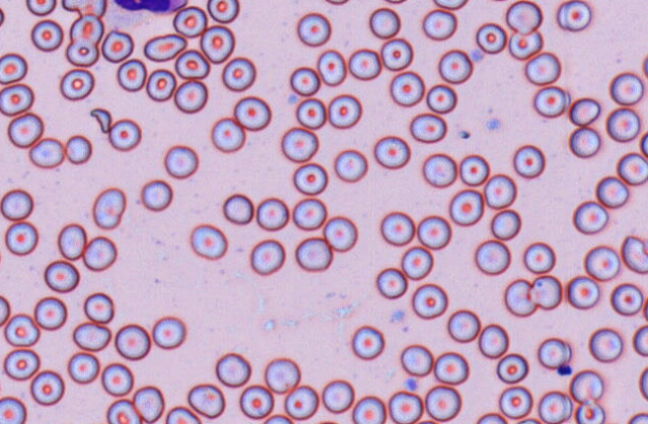GRAN: (103, 0, 186, 27)
PLT: (486, 115, 503, 134), (467, 46, 483, 63), (404, 377, 418, 391)
RBC: (92, 187, 126, 229), (424, 384, 461, 421), (189, 223, 227, 259), (280, 126, 318, 162), (200, 24, 235, 63), (264, 357, 300, 394), (114, 323, 150, 360), (583, 244, 620, 280), (411, 282, 447, 319), (187, 383, 225, 418), (448, 188, 483, 226), (233, 95, 271, 130), (7, 112, 43, 148), (474, 239, 510, 275), (295, 236, 332, 271), (250, 238, 285, 275), (215, 352, 251, 387), (82, 235, 117, 271), (389, 70, 424, 106), (322, 215, 357, 251), (505, 0, 542, 34), (524, 51, 561, 85), (373, 135, 410, 169), (143, 32, 186, 61), (284, 384, 319, 419), (210, 117, 245, 152), (437, 49, 472, 84), (416, 214, 451, 249), (30, 369, 64, 405), (572, 200, 608, 234), (504, 278, 536, 316), (239, 384, 273, 419), (221, 56, 255, 91), (163, 144, 198, 178), (296, 12, 331, 46), (609, 71, 644, 105), (151, 315, 186, 349), (588, 327, 622, 362), (422, 152, 456, 187), (606, 107, 640, 142), (327, 93, 361, 128), (43, 259, 79, 292), (3, 348, 40, 380), (132, 385, 164, 422), (72, 321, 111, 351), (569, 369, 603, 403), (173, 79, 207, 113), (4, 221, 38, 255), (33, 296, 67, 330), (388, 390, 422, 424), (380, 211, 414, 245), (333, 148, 367, 182), (529, 274, 562, 309), (4, 313, 39, 346), (537, 390, 572, 423), (433, 351, 468, 384), (483, 173, 516, 208), (292, 162, 327, 195), (409, 112, 446, 143), (0, 83, 34, 116), (498, 385, 532, 418), (321, 379, 354, 413), (595, 175, 629, 208), (447, 308, 480, 342), (566, 275, 599, 309), (292, 197, 326, 230), (351, 325, 384, 359), (512, 144, 545, 178), (59, 68, 94, 100), (172, 5, 207, 37), (422, 8, 457, 40), (401, 245, 433, 280), (532, 85, 567, 117), (28, 137, 64, 168), (316, 49, 346, 86), (108, 118, 141, 151), (380, 37, 413, 70), (610, 282, 643, 315), (256, 197, 289, 230), (101, 362, 133, 396), (101, 29, 133, 63), (537, 337, 571, 369), (556, 0, 591, 31), (57, 223, 86, 260), (0, 188, 33, 220), (67, 351, 99, 384), (30, 19, 63, 51), (348, 48, 381, 80), (400, 344, 433, 376), (617, 151, 648, 185), (174, 49, 209, 79), (478, 323, 508, 358), (140, 179, 172, 211), (523, 241, 555, 273), (568, 126, 600, 158), (375, 267, 407, 299), (69, 14, 103, 44), (490, 208, 521, 240), (496, 352, 528, 383), (368, 7, 400, 38), (295, 97, 326, 129), (146, 68, 176, 101), (116, 58, 146, 91), (568, 96, 601, 126), (508, 30, 542, 59), (83, 292, 114, 323), (222, 193, 253, 224), (475, 22, 506, 53), (459, 154, 489, 186), (352, 395, 386, 423), (289, 66, 320, 96), (65, 38, 98, 66), (106, 398, 141, 424), (426, 83, 456, 113), (0, 52, 27, 84), (61, 0, 106, 18), (65, 134, 92, 164), (206, 0, 239, 23), (0, 395, 26, 424), (575, 399, 605, 423), (165, 406, 201, 423), (632, 324, 648, 356), (25, 0, 56, 16), (432, 0, 468, 10), (475, 412, 507, 423), (0, 294, 10, 326), (639, 365, 648, 400), (262, 414, 293, 424), (626, 412, 647, 423), (640, 130, 648, 158), (515, 417, 541, 424), (642, 52, 648, 78), (643, 290, 648, 321), (323, 0, 350, 5), (414, 419, 440, 424), (0, 5, 5, 29), (312, 420, 340, 424), (381, 0, 409, 4), (0, 246, 2, 275), (484, 0, 511, 1)
Schistocyte: (622, 234, 648, 275), (88, 108, 113, 133)
